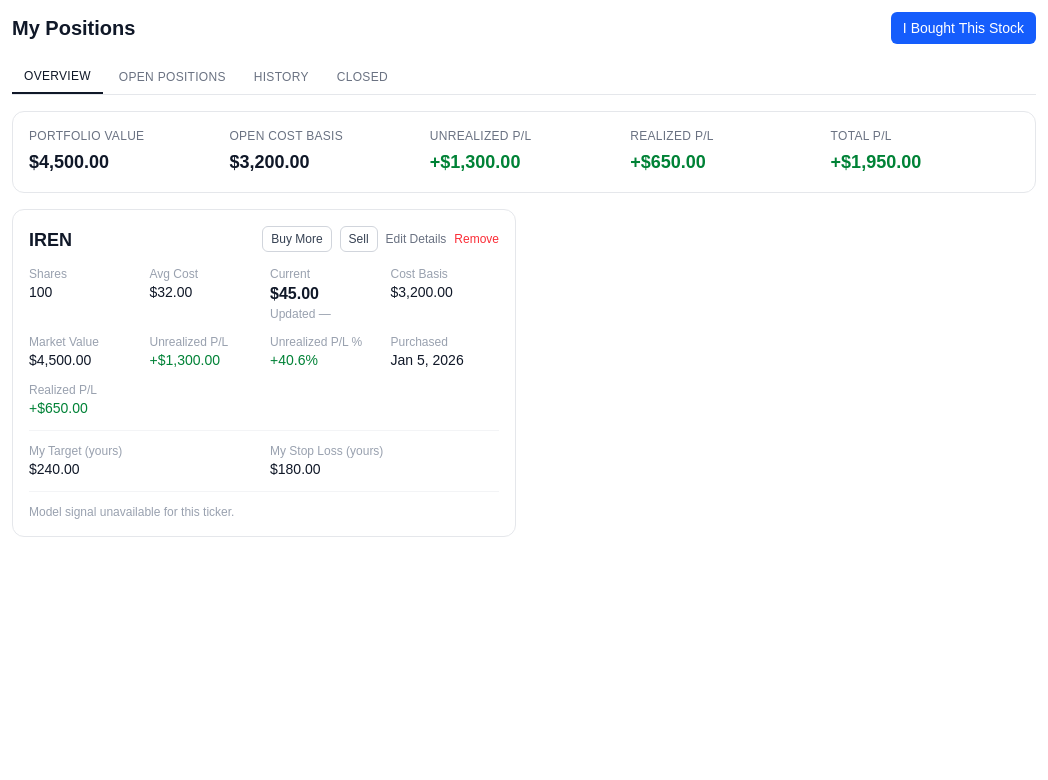
Test case: PositionsPage › shows transaction history on the HISTORY tab
Expected: the element with test id "position-card-IREN" is shown, [12,209,516,537]
Click the tab "HISTORY" at (281, 77), box [242,60,321,94]
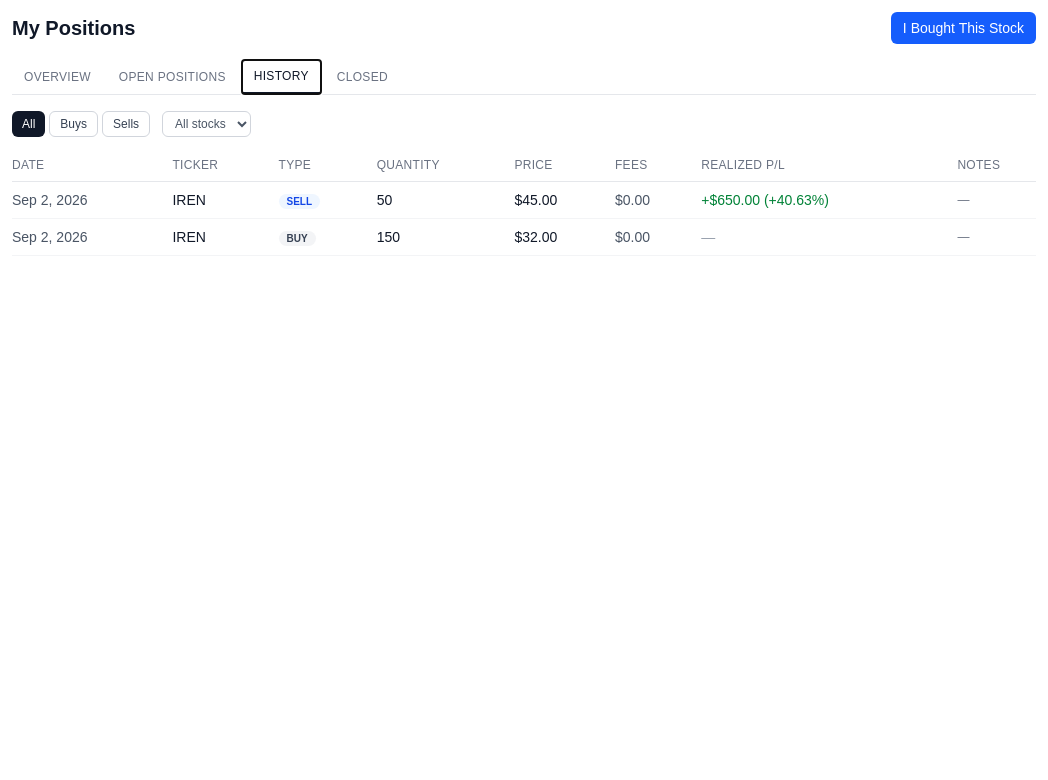
Expected: the text "+$650.00 (+40.63%)" is shown, [701,192,829,208]
